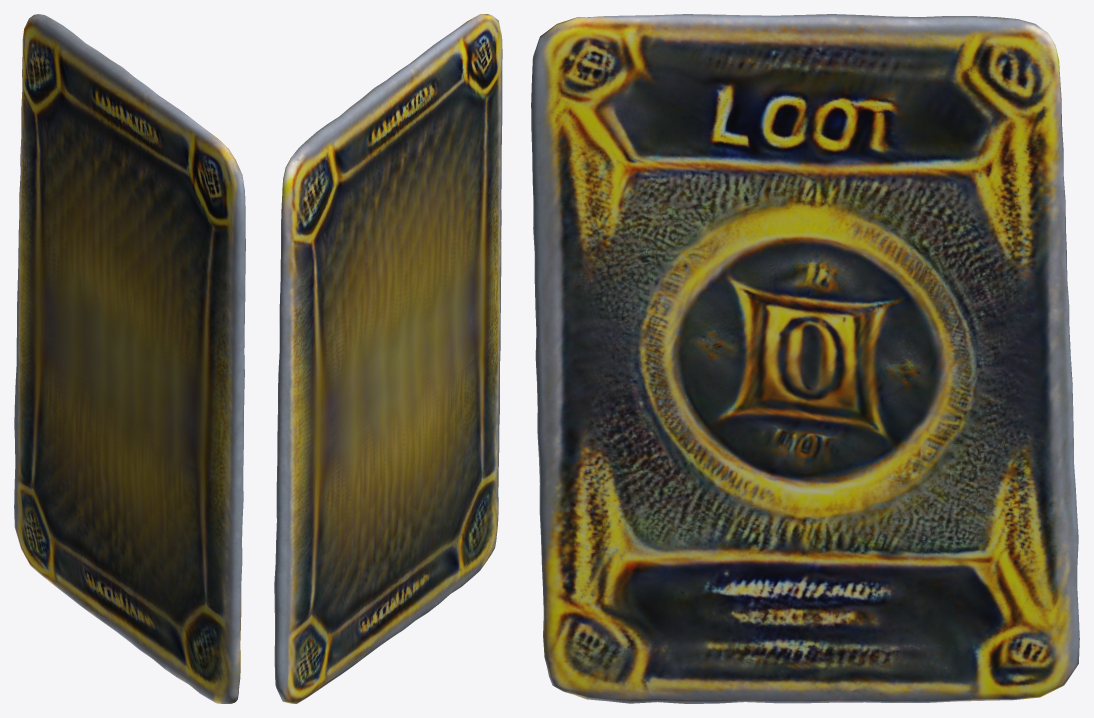
Rendered from card.glb.
3 renders of one model, left to right at view 1: azimuth 30°, elevation 25°; view 2: azimuth 150°, elevation 25°; view 3: azimuth 270°, elevation 25°, orthographic. The views are drawn at different scales.
Parts seen in each view (by area): view 1: mesh; view 2: mesh; view 3: mesh.
Part boxes in pixels (x1,y1,x2,y2): mesh: (14, 14, 245, 703); mesh: (274, 14, 502, 703); mesh: (531, 14, 1079, 703).
Bounding box in the file's own units: 0.2616 × 6.22 × 4.5.
Materials: 1 (1 with a texture image).
